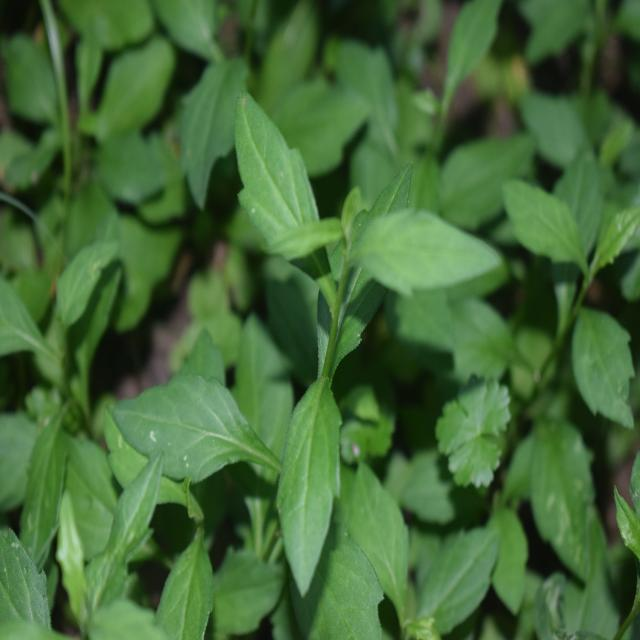Indian aster: (135, 108, 470, 566)
